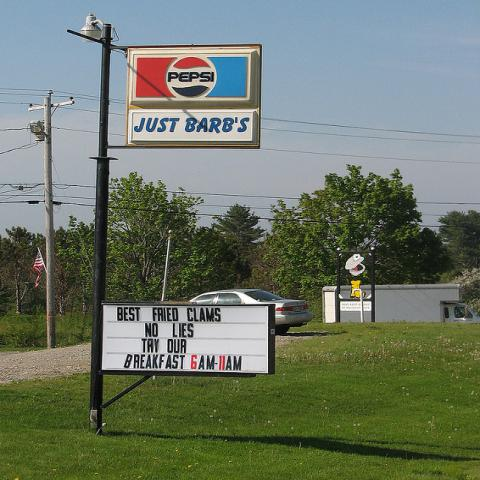car: (188, 289, 315, 336)
truck: (322, 283, 479, 325)
